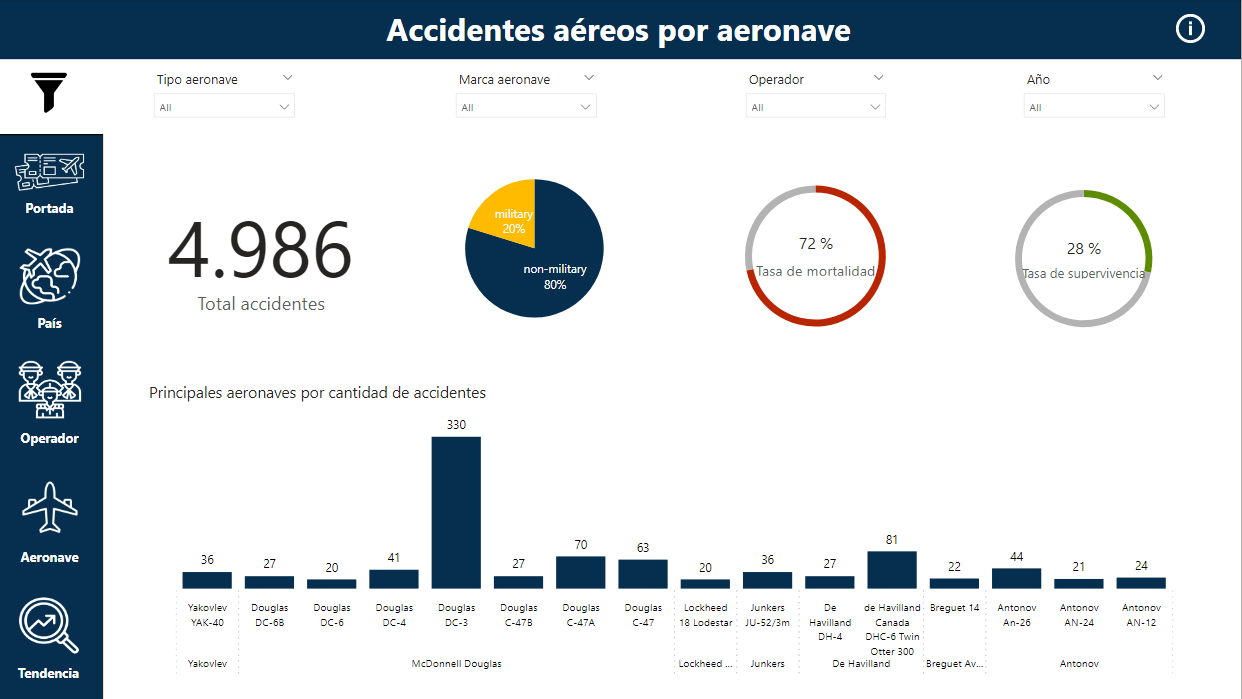

Layout of this report page (visuals, bound fields, positions):
{"tool":"powerbi","page":{"name":"Aeronave","canvas":[1280,720],"ordinal":3},"visuals":[{"type":"shape","box":[0,0,1280,61.8],"z":0},{"type":"image","box":[16.4,366.8,80.9,69.3],"z":0,"group":"g3"},{"type":"textbox","box":[25,3,1233,55],"z":1000},{"type":"textbox","box":[16.4,436.2,80.9,28.8],"z":1000,"group":"g3"},{"type":"image","box":[31,68.2,51.4,55.8],"z":2000},{"type":"image","box":[16.4,139.1,80.9,76.2],"z":2001,"group":"g1"},{"type":"image","box":[16.4,250.7,80.9,67.7],"z":2002,"group":"g2"},{"type":"image","box":[16.4,484.8,80.9,74.1],"z":2003,"group":"g4"},{"type":"image","box":[15.5,607.3,80.9,69.6],"z":2005,"group":"g5"},{"type":"textbox","box":[16.4,318.5,80.9,28.5],"z":2007,"group":"g2"},{"type":"textbox","box":[16.4,559,80.9,28.6],"z":2009,"group":"g4"},{"type":"textbox","box":[15.5,676.9,80.9,28.5],"z":2010,"group":"g5"},{"type":"textbox","box":[16.4,199.8,80.9,31.3],"z":2011,"group":"g1"},{"type":"shape","box":[0,139,112,581],"z":3000},{"type":"group","id":"g1","title":"Group 1","box":[16.4,139.1,80.9,91.8],"z":4000},{"type":"group","id":"g2","title":"Group 2","box":[16.4,250.7,80.9,96.4],"z":5000},{"type":"group","id":"g3","title":"Group 3","box":[16.4,366.8,80.9,98.2],"z":6000},{"type":"group","id":"g4","title":"Group 4","box":[16.4,484.8,80.9,102.7],"z":7000},{"type":"group","id":"g5","title":"Group 5","box":[15.5,607.3,80.9,98.2],"z":8000},{"type":"slicer","fields":{"Values":["brands.brand"]},"box":[464.1,68.2,164.7,55.8],"z":9000},{"type":"slicer","fields":{"Values":["air_accidents.aircraft_type"]},"box":[154.1,67.8,165.4,56.5],"z":10000},{"type":"clusteredColumnChart","title":"Principales aeronaves por cantidad de accidentes","fields":{"Category":["brands.brand","air_accidents.aircraft_type"],"Y":["metrics.total_accidents"]},"box":[153.7,366.7,796.6,338.5],"z":11000},{"type":"slicer","fields":{"Values":["calendar.Year"]},"box":[1046.8,67.8,165.4,55.5],"z":12000},{"type":"slicer","fields":{"Values":["air_accidents.airline_operator"]},"box":[761.2,67.8,164.4,56.5],"z":13000},{"type":"donutChart","fields":{"Y":["metrics.survival_rate","metrics.target_donut_survival"]},"box":[985.3,146.9,251.7,213.1],"z":13000,"group":"g7"},{"type":"card","fields":{"Values":["metrics.survival_rate"]},"box":[1042.8,222.8,136.6,60.1],"z":14000,"group":"g7"},{"type":"pieChart","title":"Composición de aeronaves por categoría","fields":{"Category":["categories.category"],"Y":["metrics.total_aircrafts"]},"box":[964.9,366.7,293.7,338.5],"z":14000},{"type":"group","id":"g6","title":"Group 6","box":[705.8,146.9,241.2,212],"z":15000},{"type":"donutChart","fields":{"Y":["metrics.mortality_rate","metrics.target_donuts"]},"box":[705.8,146.9,241.2,212],"z":15000,"group":"g6"},{"type":"group","id":"g7","title":"Group 7","box":[985.3,146.9,251.9,213],"z":16000},{"type":"card","fields":{"Values":["metrics.mortality_rate"]},"box":[758.7,219.1,136.6,60.5],"z":16000,"group":"g6"},{"type":"actionButton","box":[1208.1,10.3,40.1,40.1],"z":17000},{"type":"card","fields":{"Values":["metrics.total_aircrafts"]},"box":[179.9,197.4,227.6,101.2],"z":18000},{"type":"card","fields":{"Values":["metrics.total_brands"]},"box":[445.8,197.4,221.8,104.1],"z":19000}]}

Visuals, with their boxes on the page's 1280x720 design canvas (x1, y1, x2, y2). These are canvas units, not pixel positions in the 1242x699 screenshot, which may show the page scaled, cropped or inside an application window:
shape: <box>0,0,1280,62</box>
image: <box>16,367,97,436</box>
textbox: <box>25,3,1258,58</box>
textbox: <box>16,436,97,465</box>
image: <box>31,68,82,124</box>
image: <box>16,139,97,215</box>
image: <box>16,251,97,318</box>
image: <box>16,485,97,559</box>
image: <box>16,607,96,677</box>
textbox: <box>16,318,97,347</box>
textbox: <box>16,559,97,588</box>
textbox: <box>16,677,96,705</box>
textbox: <box>16,200,97,231</box>
shape: <box>0,139,112,720</box>
"Group 1" group: <box>16,139,97,231</box>
"Group 2" group: <box>16,251,97,347</box>
"Group 3" group: <box>16,367,97,465</box>
"Group 4" group: <box>16,485,97,588</box>
"Group 5" group: <box>16,607,96,706</box>
slicer - brands.brand: <box>464,68,629,124</box>
slicer - air_accidents.aircraft_type: <box>154,68,320,124</box>
"Principales aeronaves por cantidad de accidentes" clusteredColumnChart: <box>154,367,950,705</box>
slicer - calendar.Year: <box>1047,68,1212,123</box>
slicer - air_accidents.airline_operator: <box>761,68,926,124</box>
donutChart - metrics.survival_rate x metrics.target_donut_survival: <box>985,147,1237,360</box>
card - metrics.survival_rate: <box>1043,223,1179,283</box>
"Composición de aeronaves por categoría" pieChart: <box>965,367,1259,705</box>
"Group 6" group: <box>706,147,947,359</box>
donutChart - metrics.mortality_rate x metrics.target_donuts: <box>706,147,947,359</box>
"Group 7" group: <box>985,147,1237,360</box>
card - metrics.mortality_rate: <box>759,219,895,280</box>
actionButton: <box>1208,10,1248,50</box>
card - metrics.total_aircrafts: <box>180,197,408,299</box>
card - metrics.total_brands: <box>446,197,668,302</box>
